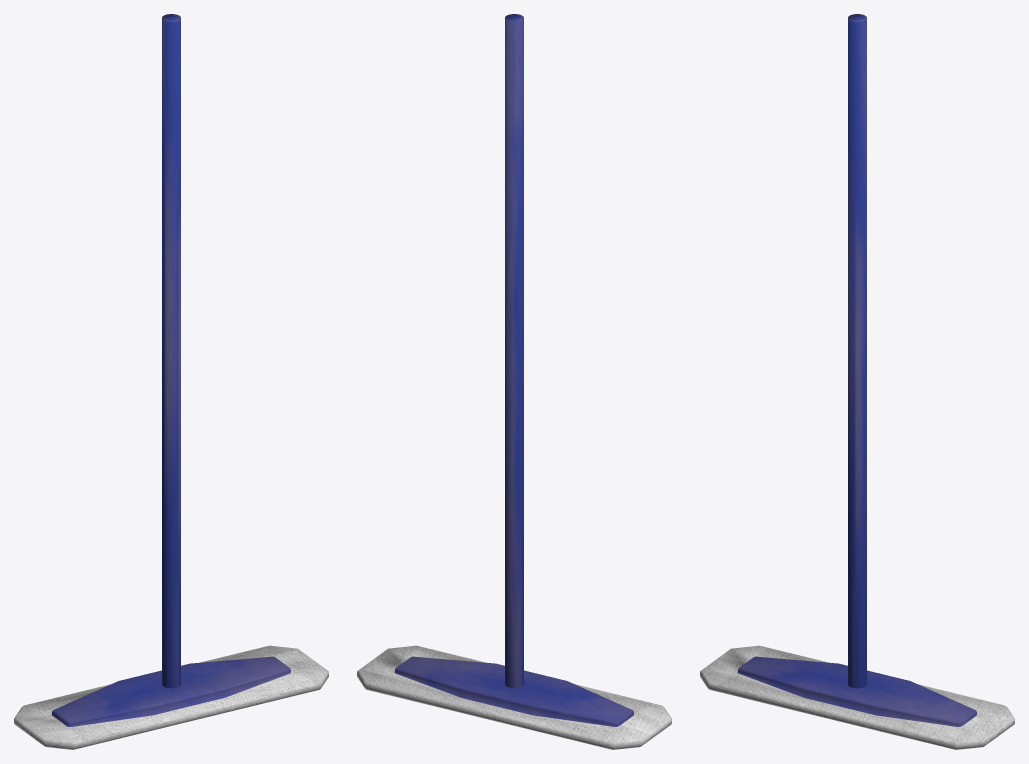
Rendered from mopNew.fbx.
3 renders of one model, left to right at view 1: azimuth 30°, elevation 25°; view 2: azimuth 150°, elevation 25°; view 3: azimuth 330°, elevation 25°, orthographic.
Visible parts, largest first — view 1: Cube; view 2: Cube; view 3: Cube.
Part boxes in pixels (x1,y1,x2,y2): Cube: (14, 14, 328, 749); Cube: (357, 14, 671, 749); Cube: (700, 14, 1014, 749).
Bounding box in the file's own units: 87.82 × 201 × 27.62.
Materials: 2 (2 with a texture image).
